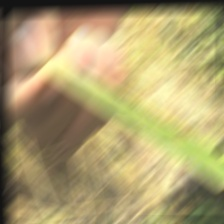Bacterial_Leaf_Blight: (136, 109, 163, 121), (113, 91, 127, 103), (176, 127, 187, 136)
